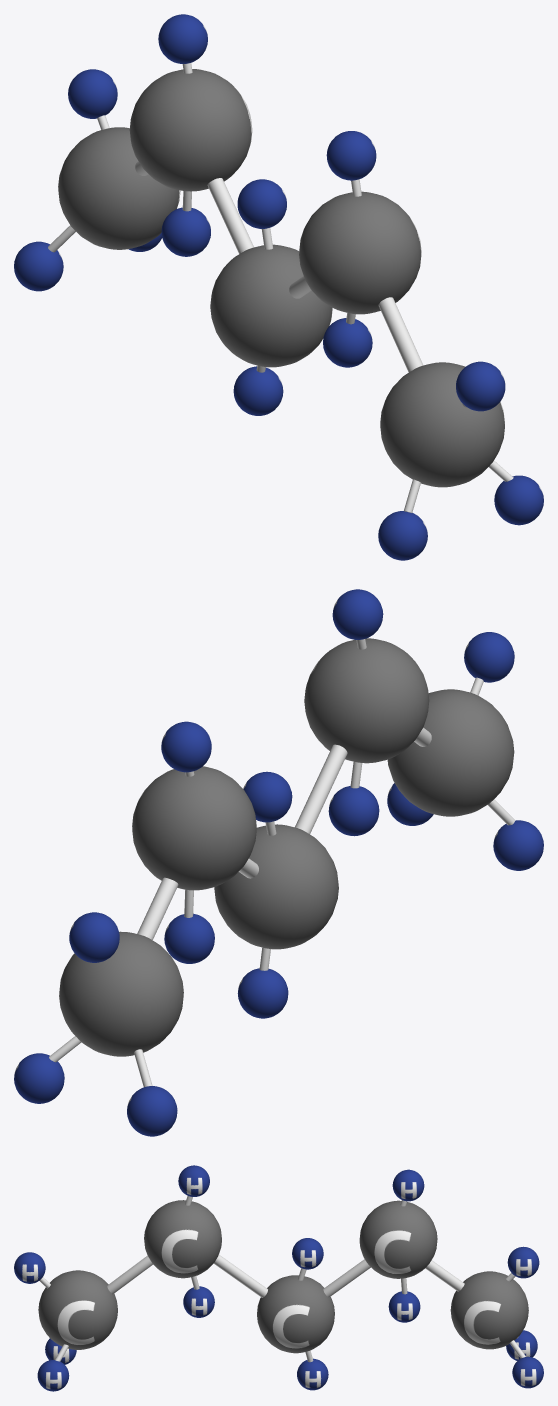
File: pentane.glb
3 renders of one model, top to bottom at view 1: azimuth 30°, elevation 25°; view 2: azimuth 150°, elevation 25°; view 3: azimuth 270°, elevation 25°, orthographic. The views are drawn at different scales.
Parts seen in each view (by area): view 1: carbon3, carbon1, carbon, carbon2, carbon4, hydrogen.002, hydrogen.003, hydrogen.006, hydrogen.008, hydrogen.009, hydrogen.001, hydrogen (+6 smaller); view 2: carbon1, carbon3, carbon4, carbon, carbon2, hydrogen.008, hydrogen.009, hydrogen.003, hydrogen.010, hydrogen.002, hydrogen.005, hydrogen.001 (+7 smaller); view 3: carbon, carbon1, carbon3, carbon4, carbon2, hydrogen.002, hydrogen.003, hydrogen.006, hydrogen.011, hydrogen.008, hydrogen.009, hydrogen (+9 smaller).
Part boxes in pixels (left/top/right/bottom): carbon3: left=129, top=69, right=252, bottom=191; carbon1: left=299, top=191, right=421, bottom=314; carbon: left=380, top=362, right=504, bottom=487; carbon2: left=210, top=244, right=332, bottom=367; carbon4: left=58, top=127, right=180, bottom=249; hydrogen.002: left=456, top=361, right=505, bottom=411; hydrogen.003: left=326, top=131, right=376, bottom=180; hydrogen.006: left=237, top=179, right=286, bottom=228; hydrogen.008: left=158, top=14, right=207, bottom=63; hydrogen.009: left=68, top=69, right=117, bottom=118; hydrogen.001: left=378, top=511, right=427, bottom=560; hydrogen: left=494, top=475, right=543, bottom=525; carbon1: left=304, top=638, right=429, bottom=763; carbon3: left=132, top=766, right=256, bottom=890; carbon4: left=59, top=931, right=183, bottom=1056; carbon: left=387, top=689, right=514, bottom=816; carbon2: left=214, top=824, right=338, bottom=949; hydrogen.008: left=161, top=721, right=211, bottom=772; hydrogen.009: left=69, top=912, right=119, bottom=962; hydrogen.003: left=332, top=589, right=383, bottom=639; hydrogen.010: left=127, top=1086, right=177, bottom=1136; hydrogen.002: left=464, top=632, right=514, bottom=682; hydrogen.005: left=237, top=968, right=288, bottom=1018; hydrogen.001: left=493, top=820, right=543, bottom=870; carbon: left=38, top=1270, right=117, bottom=1349; carbon1: left=144, top=1200, right=221, bottom=1278; carbon3: left=359, top=1200, right=437, bottom=1278; carbon4: left=450, top=1271, right=528, bottom=1349; carbon2: left=257, top=1275, right=334, bottom=1353; hydrogen.002: left=14, top=1252, right=45, bottom=1283; hydrogen.003: left=178, top=1165, right=209, bottom=1196; hydrogen.006: left=292, top=1238, right=323, bottom=1269; hydrogen.011: left=512, top=1356, right=543, bottom=1388; hydrogen.008: left=392, top=1169, right=424, bottom=1201; hydrogen.009: left=507, top=1246, right=539, bottom=1278; hydrogen: left=37, top=1360, right=69, bottom=1391.
Bounding box in the file's own units: 0.9121 × 1.96 × 4.23.
3 materials, 2 textured.
